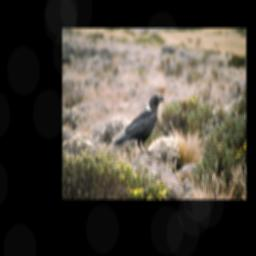Crow: (112, 92, 165, 156)
